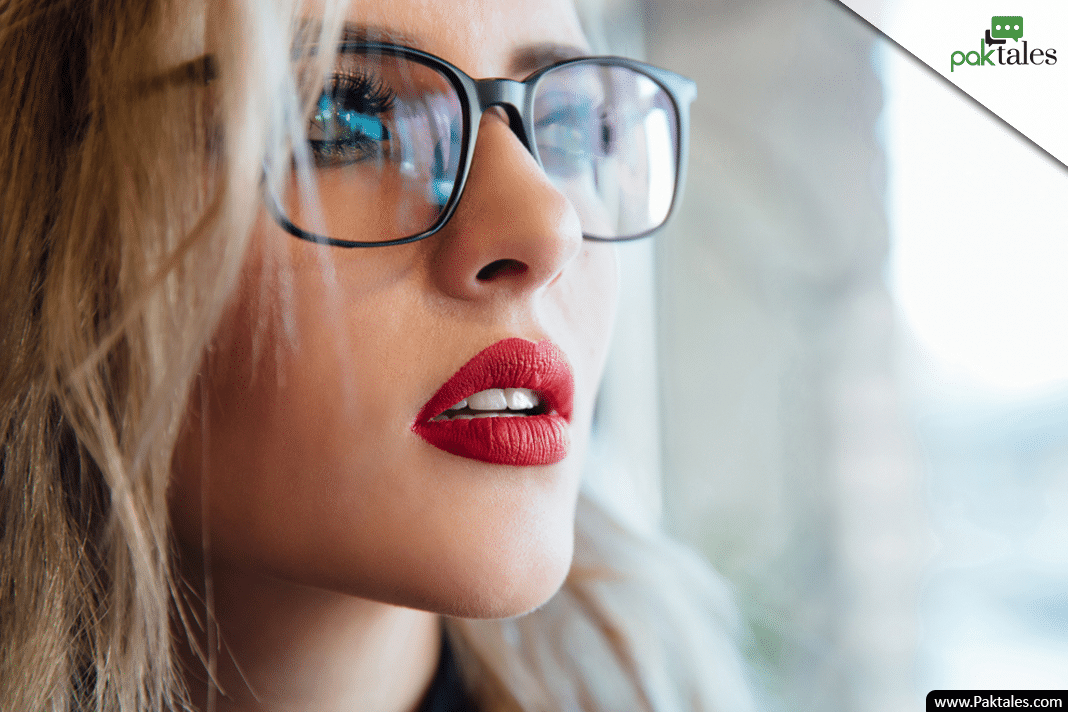GIRL: (66, 1, 637, 626)
